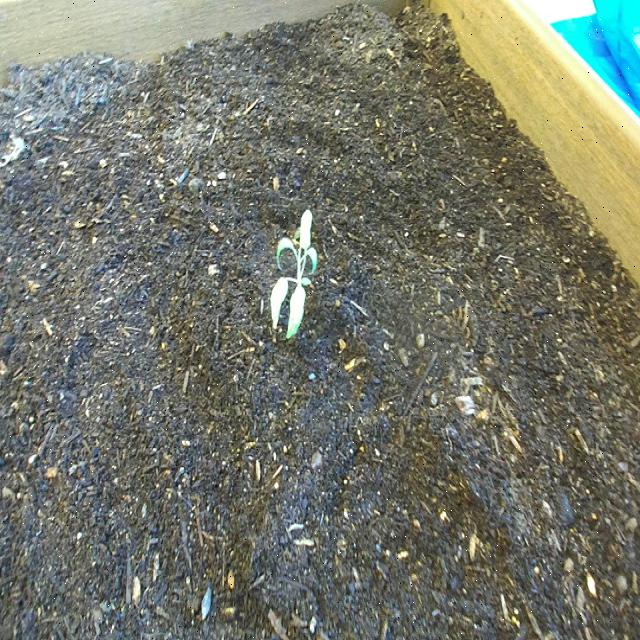Healthy: (266, 202, 324, 352)
